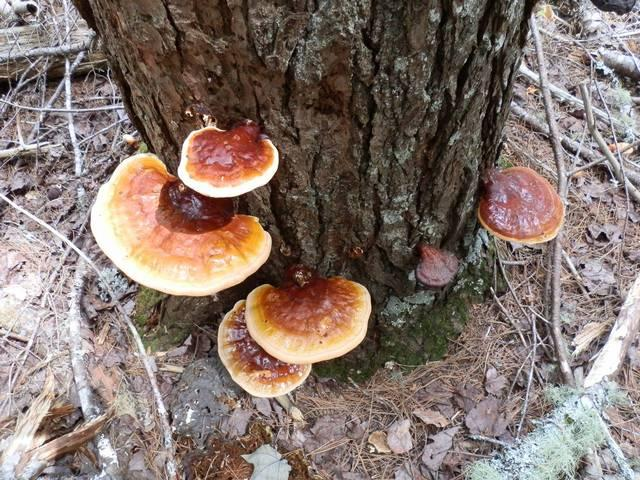Non-edible Mushroom: (88, 151, 273, 297), (206, 273, 373, 400), (176, 115, 279, 199), (476, 164, 565, 249), (421, 237, 455, 285)
